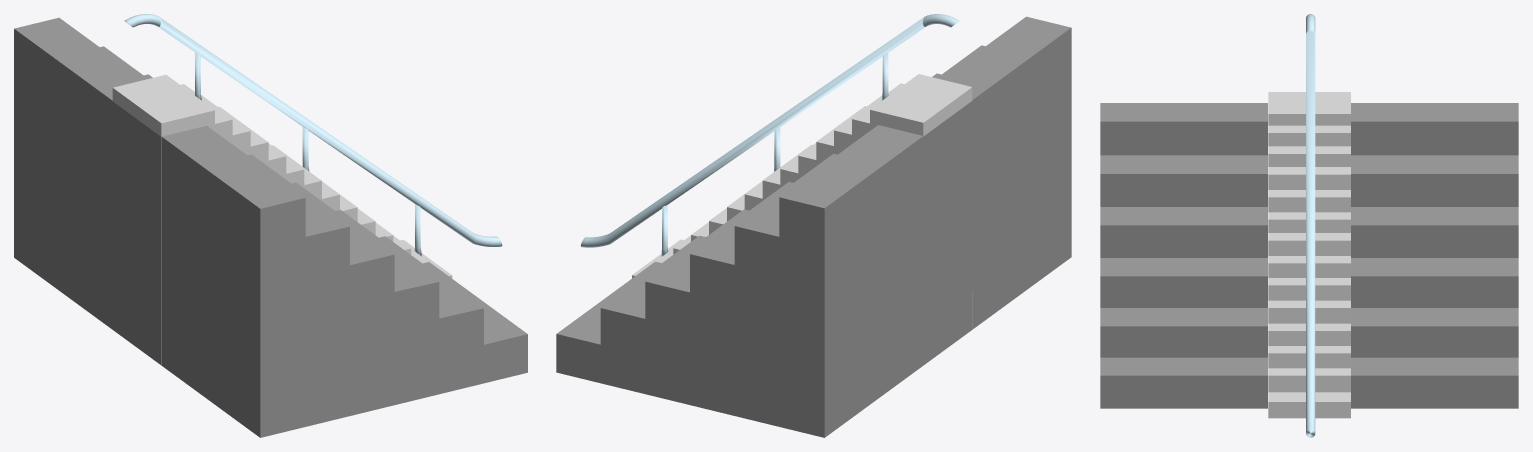
Rendered from arquibancada 2 1.fbx.
3 views of the same model, side by side, from view 1: azimuth 30°, elevation 25°; view 2: azimuth 150°, elevation 25°; view 3: azimuth 270°, elevation 25° (orthographic). The views are drawn at different scales.
Visible parts, largest first — view 1: Cube; view 2: Cube; view 3: Cube.
Part boxes in pixels (x1=…): Cube: x1=14, y1=14, x2=527, y2=437; Cube: x1=556, y1=14, x2=1071, y2=437; Cube: x1=1100, y1=14, x2=1518, y2=437.
Bounding box in the file's own units: 2037 × 1718 × 2316.
